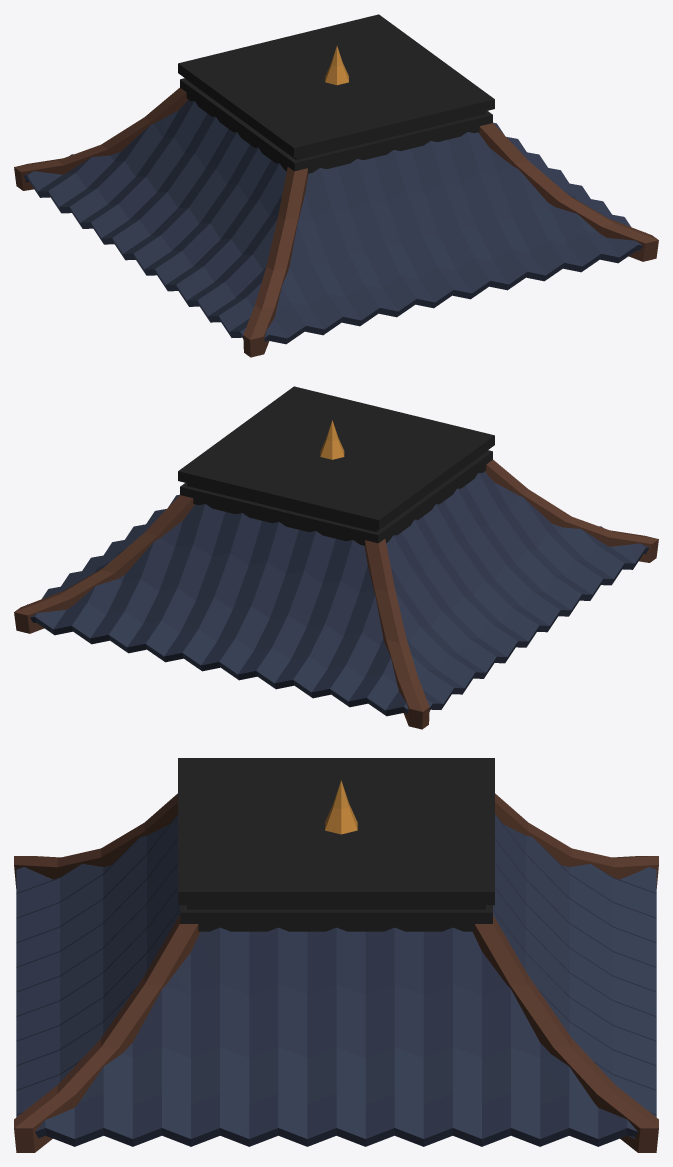
File: Roof_1 Asia.fbx
3 views of the same model, one above another, from view 1: azimuth 30°, elevation 25°; view 2: azimuth 150°, elevation 25°; view 3: azimuth 270°, elevation 25° (orthographic). The views are drawn at different scales.
Visible parts, largest first — view 1: Roof_1; view 2: Roof_1; view 3: Roof_1.
Boxes of the visible parts, x1,y1,x2,y2 form: Roof_1: [14, 14, 658, 357]; Roof_1: [14, 386, 658, 729]; Roof_1: [14, 758, 658, 1152].
Bounding box in the file's own units: 6.18 × 2.53 × 6.18.
